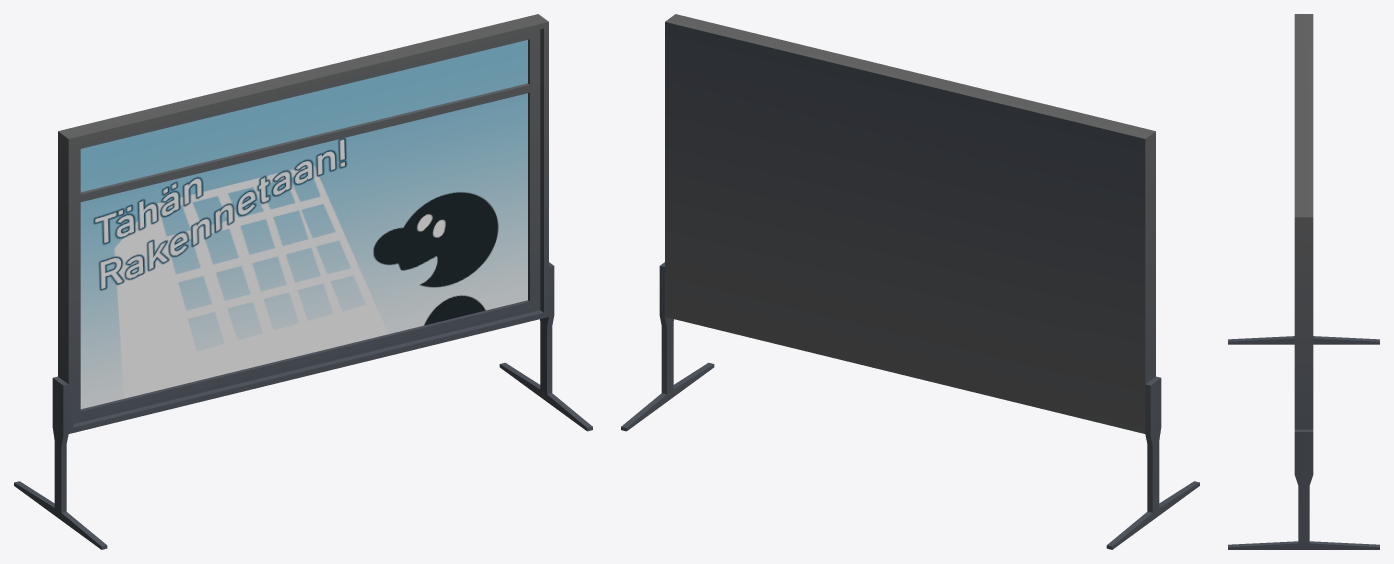
The model's file is rakennuskyltti.fbx.
The picture shows the model from 3 angles, left to right: view 1: azimuth 30°, elevation 25°; view 2: azimuth 150°, elevation 25°; view 3: azimuth 270°, elevation 25°; orthographic projection. The views are drawn at different scales.
Parts seen in each view (by area): view 1: rakennuskyltti; view 2: rakennuskyltti; view 3: rakennuskyltti.
Part boxes in pixels (x1,y1,x2,y2): rakennuskyltti: (14, 14, 592, 549); rakennuskyltti: (621, 14, 1199, 549); rakennuskyltti: (1228, 14, 1379, 549).
Bounding box in the file's own units: 9.48 × 7.03 × 2.93.
